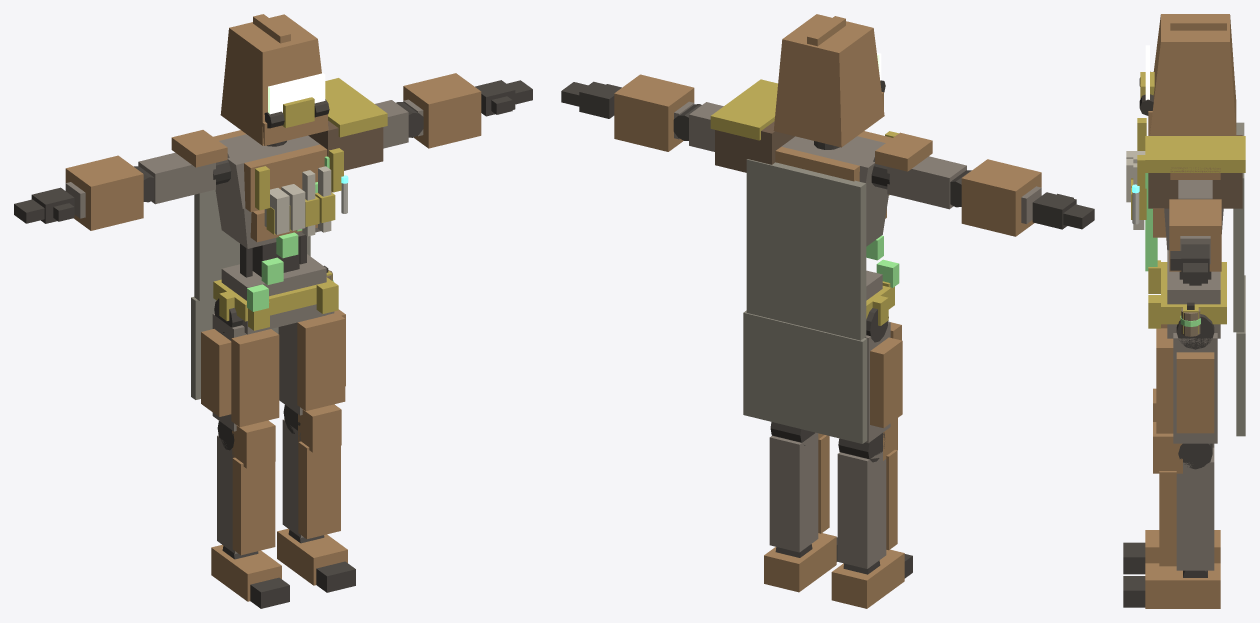
File: char_P_marksman.glb
3 renders of one model, left to right at view 1: azimuth 30°, elevation 25°; view 2: azimuth 150°, elevation 25°; view 3: azimuth 270°, elevation 25°, orthographic. The views are drawn at different scales.
Parts seen in each view (by area): view 1: Head_mesh, UpperChest_mesh, RightUpperLeg_mesh, LeftLowerLeg_mesh, RightLowerLeg_mesh, Hips_mesh, LeftUpperLeg_mesh, RightLowerArm_mesh, LeftLowerArm_mesh, LeftShoulder_mesh, RightUpperArm_mesh, Chest_mesh (+10 smaller); view 2: UpperChest_mesh, Hips_mesh, Head_mesh, RightLowerLeg_mesh, LeftLowerLeg_mesh, RightLowerArm_mesh, LeftLowerArm_mesh, LeftShoulder_mesh, RightUpperArm_mesh, RightUpperLeg_mesh, RightFoot_mesh, LeftFoot_mesh (+4 smaller); view 3: Head_mesh, LeftLowerLeg_mesh, LeftUpperLeg_mesh, LeftShoulder_mesh, Hips_mesh, LeftFoot_mesh, UpperChest_mesh, LeftLowerArm_mesh, LeftHand_mesh, LeftUpperArm_mesh, Chest_mesh, RightToes_mesh (+6 smaller).
Part boxes in pixels (x1,y1,x2,y2): Head_mesh: (220,14,329,145); UpperChest_mesh: (194,130,343,300); RightUpperLeg_mesh: (201,298,279,431); LeftLowerLeg_mesh: (282,404,341,538); RightLowerLeg_mesh: (217,420,275,555); Hips_mesh: (191,254,338,399); LeftUpperLeg_mesh: (278,309,345,415); RightLowerArm_mesh: (65,155,154,230); LeftLowerArm_mesh: (396,73,481,148); LeftShoulder_mesh: (308,78,387,170); RightUpperArm_mesh: (138,130,227,204); Chest_mesh: (215,189,320,311); UpperChest_mesh: (746,131,898,340); Hips_mesh: (743,270,894,443); Head_mesh: (773,14,885,147); RightLowerLeg_mesh: (837,418,897,568); LeftLowerLeg_mesh: (769,422,829,552); RightLowerArm_mesh: (950,159,1041,236); LeftLowerArm_mesh: (614,74,701,151); LeftShoulder_mesh: (710,79,794,172); RightUpperArm_mesh: (875,132,966,209); RightUpperLeg_mesh: (865,308,902,442); RightFoot_mesh: (831,549,904,608); LeftFoot_mesh: (764,533,836,592); Head_mesh: (1139,14,1236,135); LeftLowerLeg_mesh: (1153,422,1214,570); LeftUpperLeg_mesh: (1156,314,1217,443); LeftShoulder_mesh: (1145,135,1245,208); Hips_mesh: (1148,250,1245,436); LeftFoot_mesh: (1145,563,1220,608); UpperChest_mesh: (1131,118,1244,332); LeftLowerArm_mesh: (1169,199,1221,271); LeftHand_mesh: (1170,244,1209,283); LeftUpperArm_mesh: (1170,167,1220,199); Chest_mesh: (1145,208,1223,271); RightToes_mesh: (1123,542,1145,574).
Bounding box in the file's own units: 1.92 × 1.97 × 0.39.
